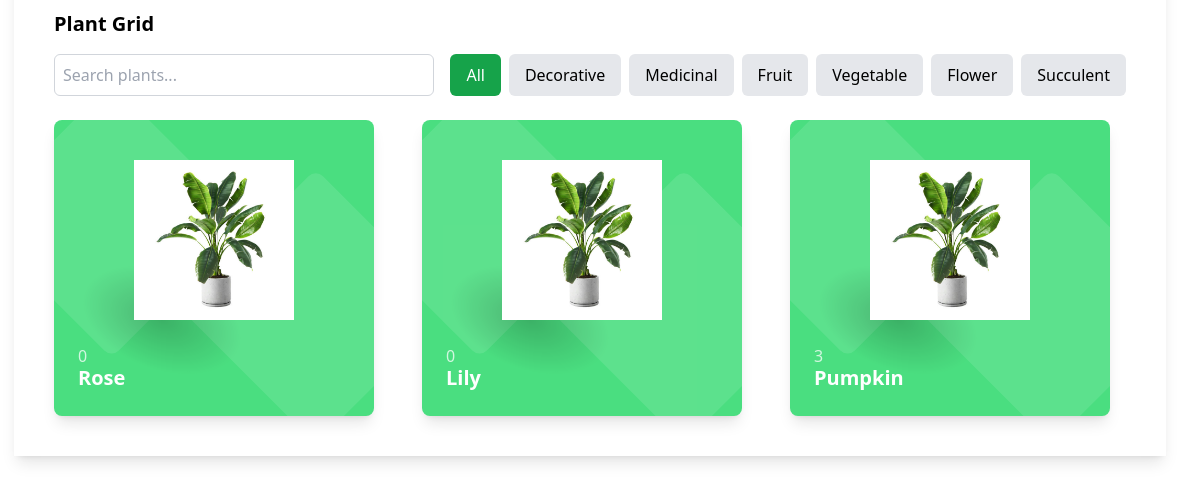
MyGardenDisplayComponent › filters plants by type
The width and height of the screenshot is (1181, 482).
// Use role to find the Decorative filter button
Click the button "Decorative": (565, 75) [509, 54, 621, 96]
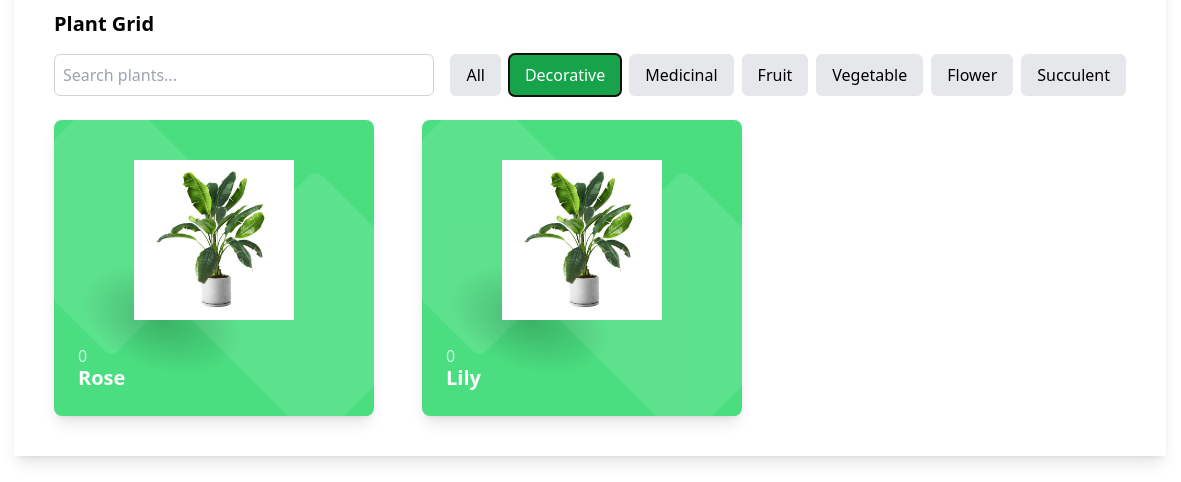
Expected: the text "Rose" is shown, [78, 364, 125, 392]
Expected: the text "Pumpkin" is gone
